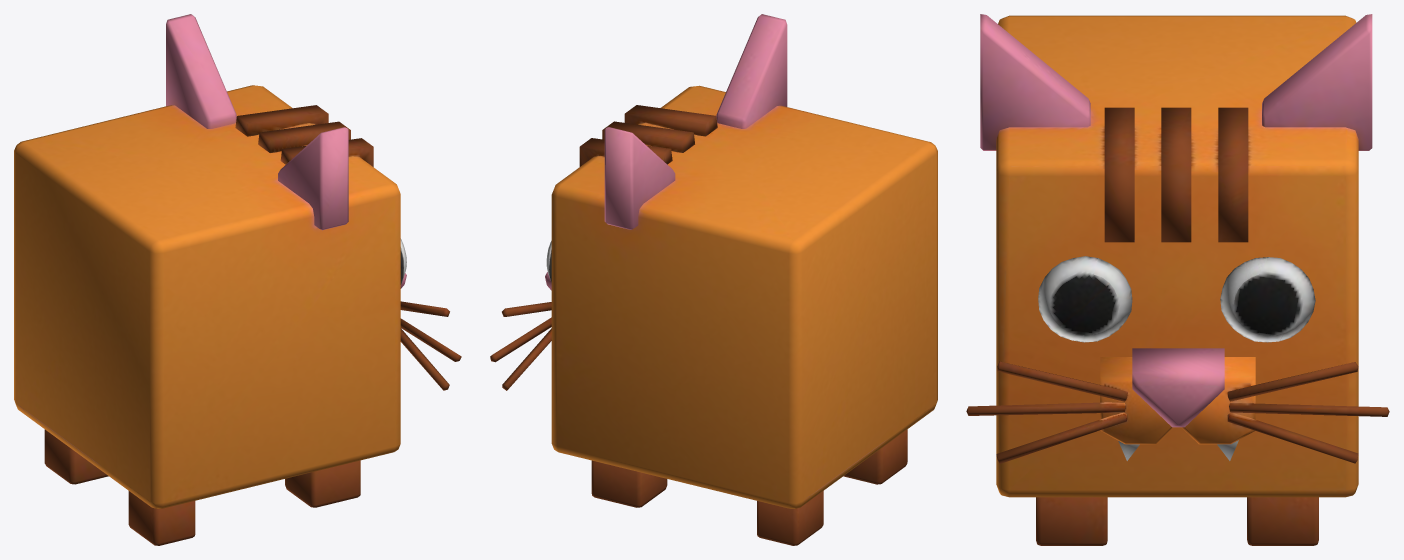
Rendered from tripo_convert_eb5de785-1520-463f-abc3-dd170b8bedf0.fbx.
The picture shows the model from 3 angles, left to right: view 1: azimuth 30°, elevation 25°; view 2: azimuth 150°, elevation 25°; view 3: azimuth 270°, elevation 25°; orthographic projection. The views are drawn at different scales.
Parts seen in each view (by area): view 1: tripo_node_eb5de785; view 2: tripo_node_eb5de785; view 3: tripo_node_eb5de785.
Part boxes in pixels (x1=…): tripo_node_eb5de785: x1=14, y1=14, x2=461, y2=545; tripo_node_eb5de785: x1=490, y1=14, x2=937, y2=545; tripo_node_eb5de785: x1=966, y1=14, x2=1389, y2=545.
Size of the model in its own units: 81.84 by 77.15 by 99.8.
